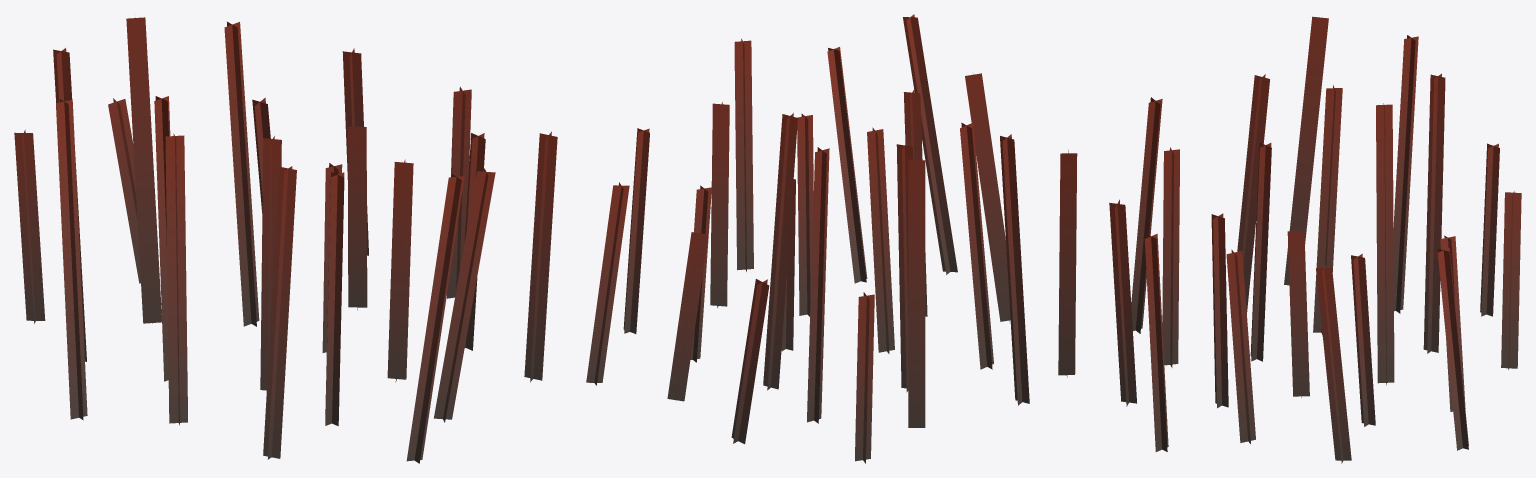
File: ChanHuong_Dem2.glb
3 views of the same model, side by side, from view 1: azimuth 30°, elevation 25°; view 2: azimuth 150°, elevation 25°; view 3: azimuth 270°, elevation 25° (orthographic). The views are drawn at different scales.
Parts seen in each view (by area): view 1: ChanHuong_Dem2_Que; view 2: ChanHuong_Dem2_Que; view 3: ChanHuong_Dem2_Que.
Boxes of the visible parts, x1=… form: ChanHuong_Dem2_Que: x1=14, y1=17, x2=557, y2=463; ChanHuong_Dem2_Que: x1=586, y1=14, x2=1029, y2=463; ChanHuong_Dem2_Que: x1=1058, y1=16, x2=1521, y2=463.
Size of the model in its own units: 0.0896 by 0.0623 by 0.0965.
